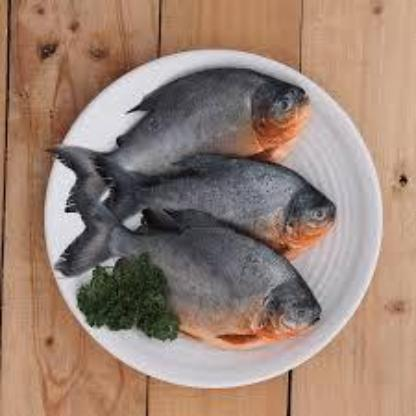ikan-pacu: (90, 214, 326, 348), (68, 66, 306, 178), (94, 158, 344, 244)
